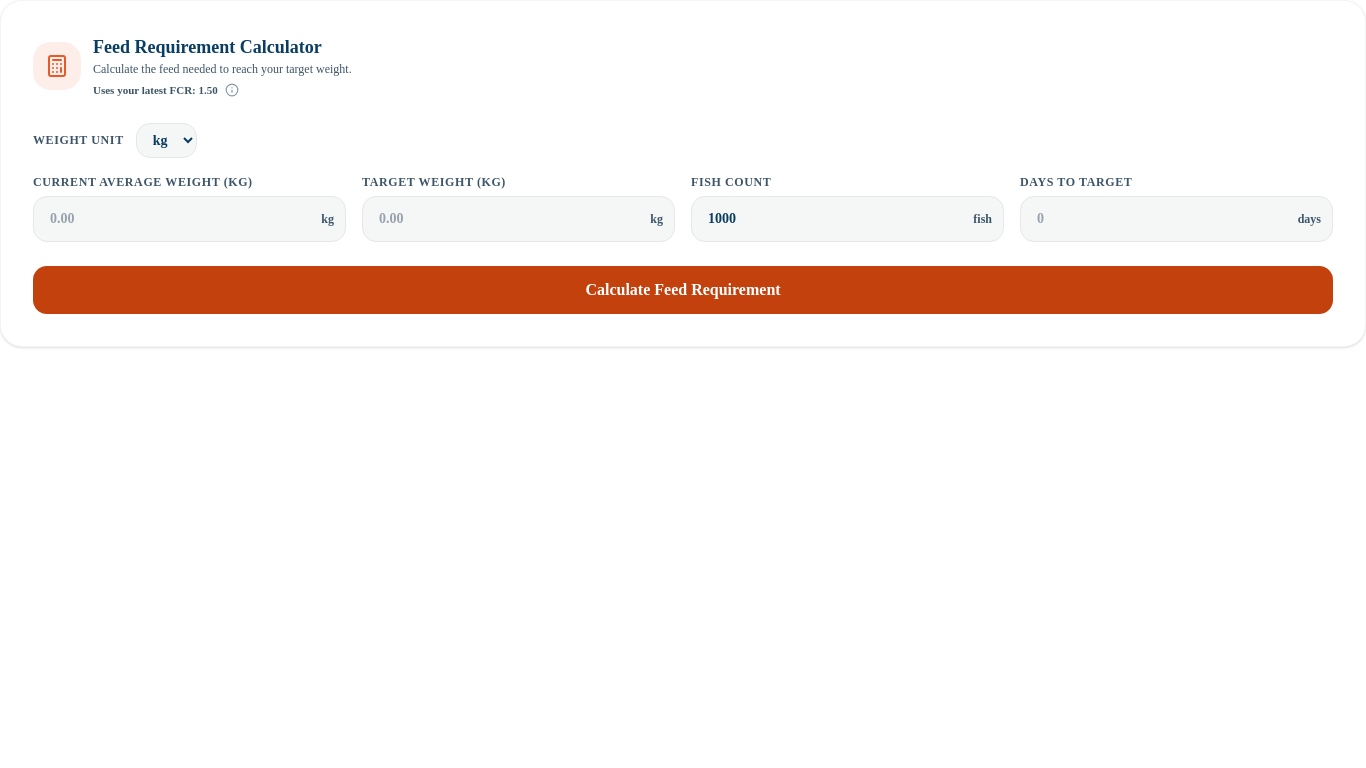
it: weight unit (#683) › renders results in the selected unit and keeps gramsPerFeeding in grams
Select "g" in the dropdown labelled "Weight unit" at (166, 140), box [136,123,197,158]
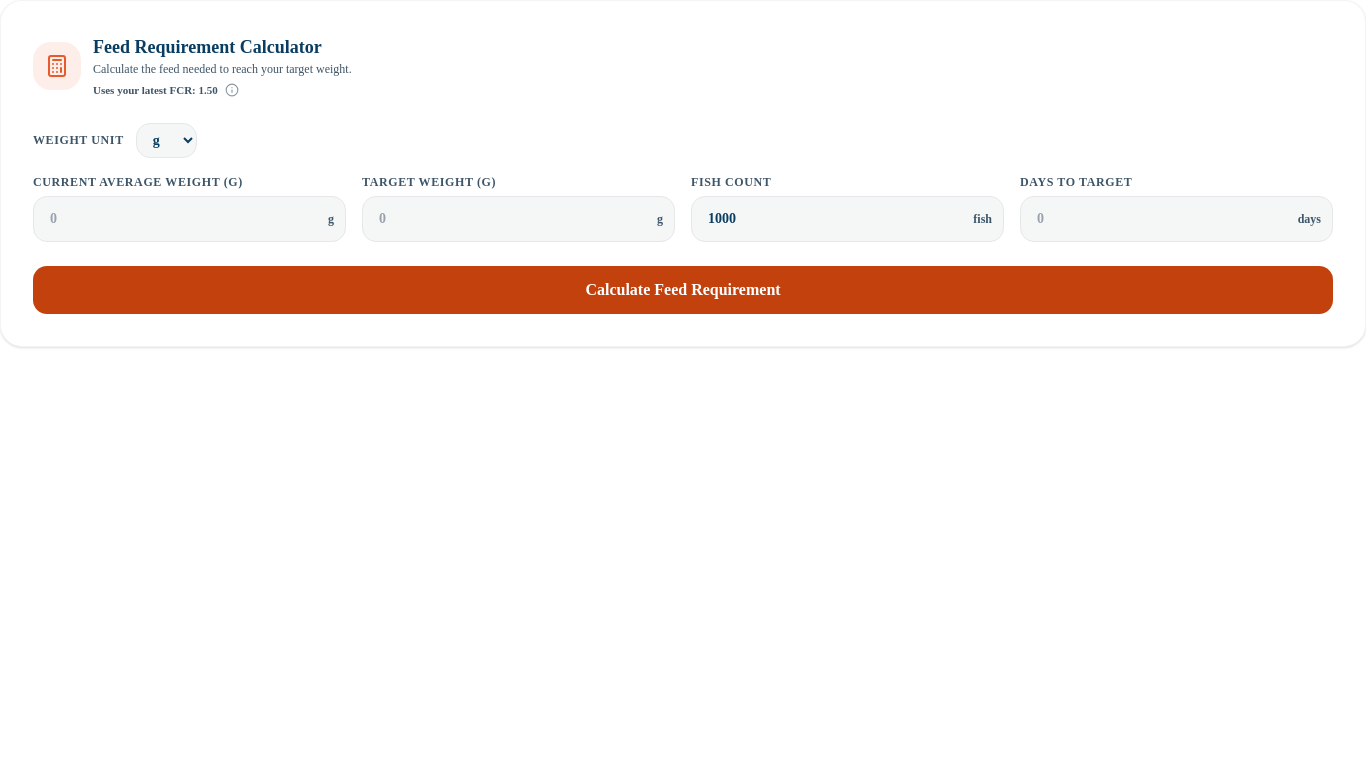
Type "150" into the number field labelled "Current average weight (g)" at (190, 219), box [33,196,346,242]
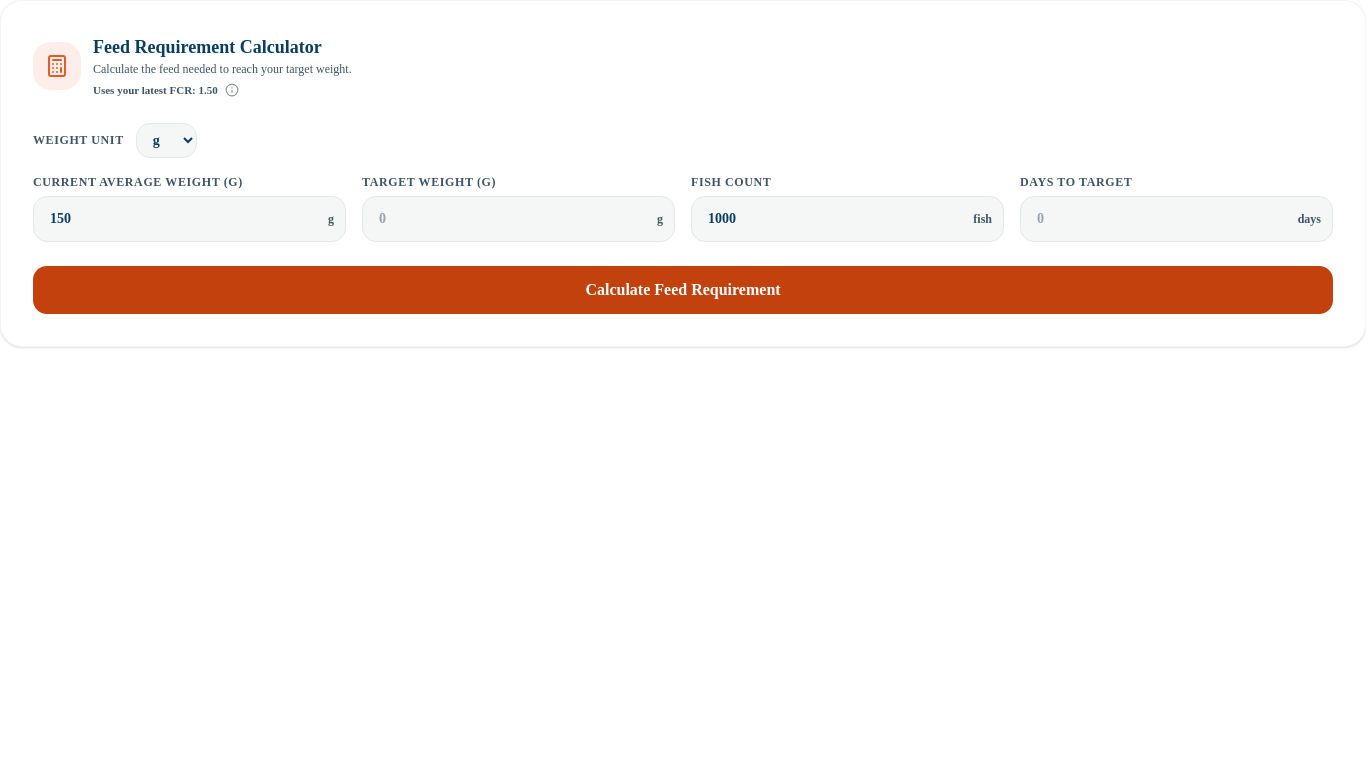
Type "400" into the number field labelled "Target Weight (g)" at (518, 219), box [362,196,675,242]
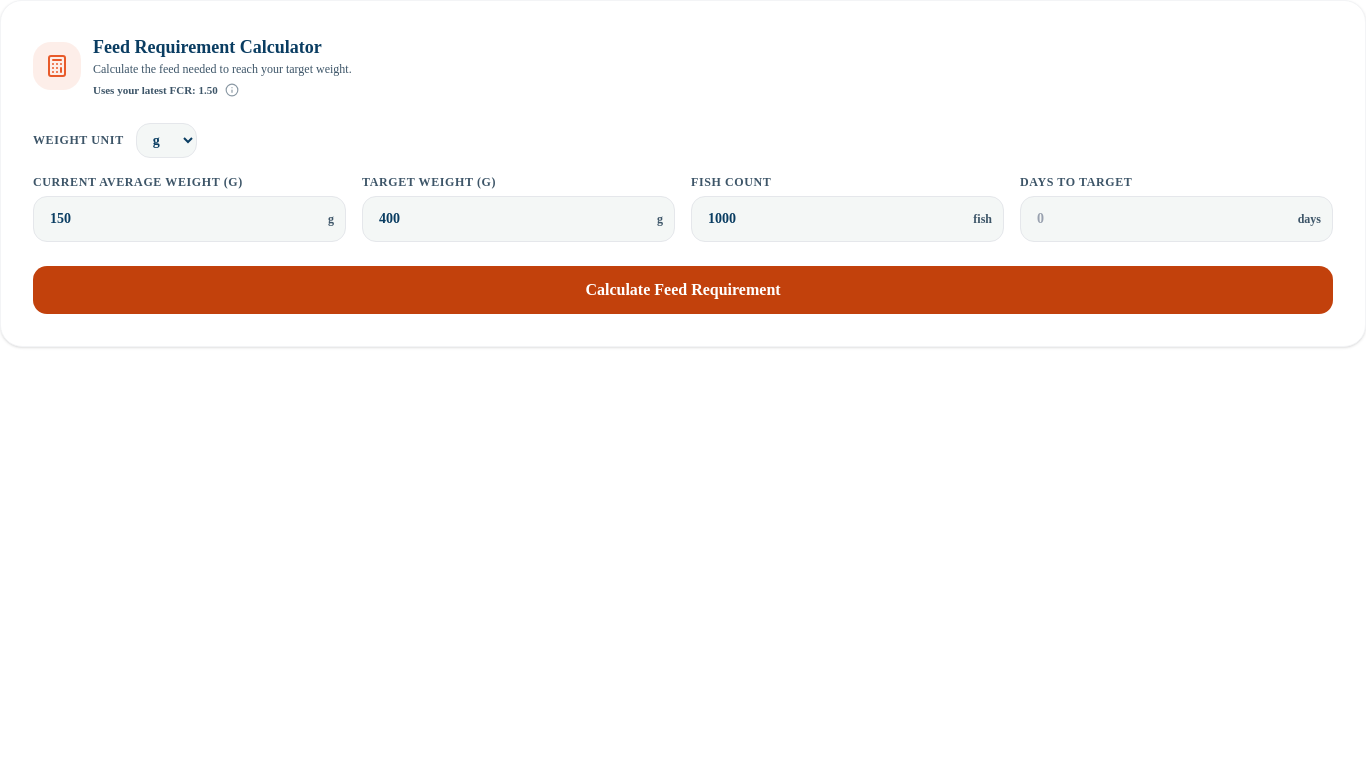
Type "60" into the number field labelled "Days to Target" at (1176, 219), box [1020,196,1333,242]
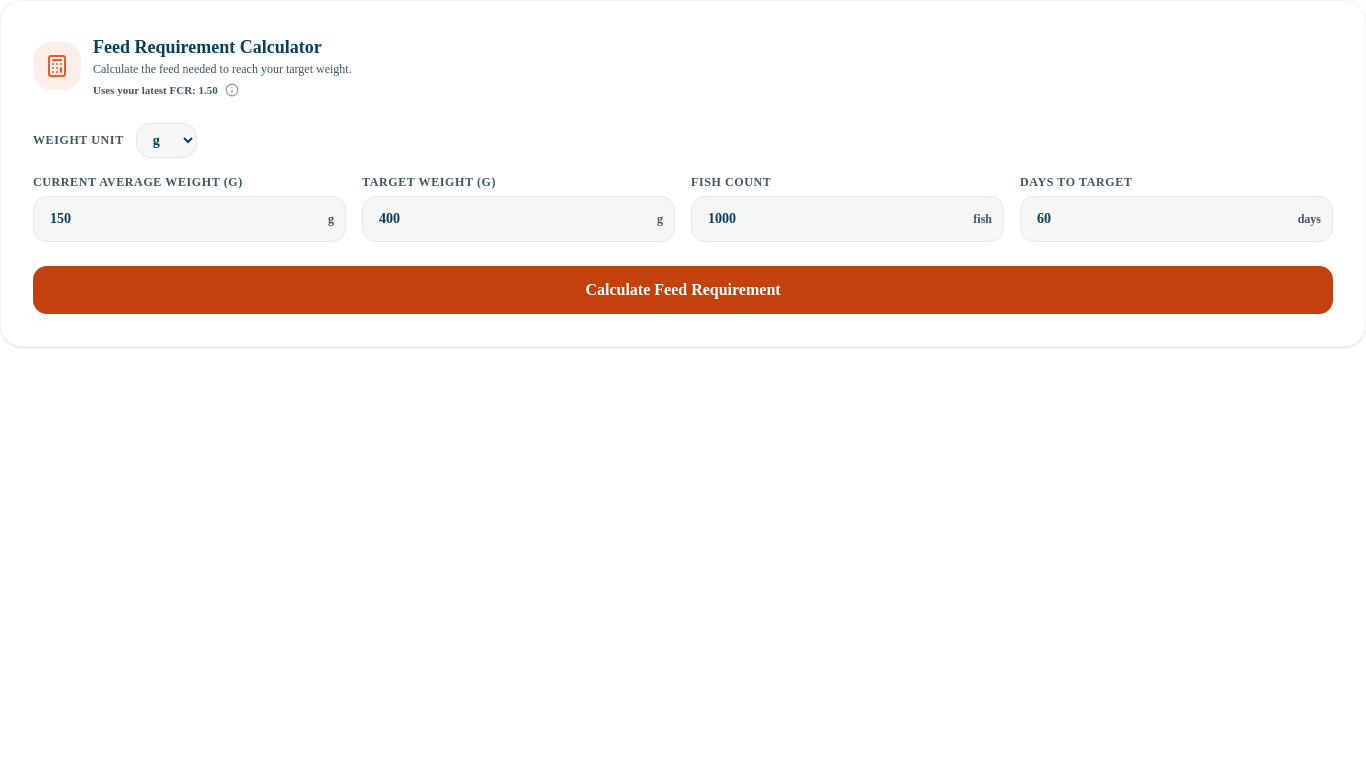
Click the button "Calculate Feed Requirement" at (683, 290), box [33,266,1333,314]
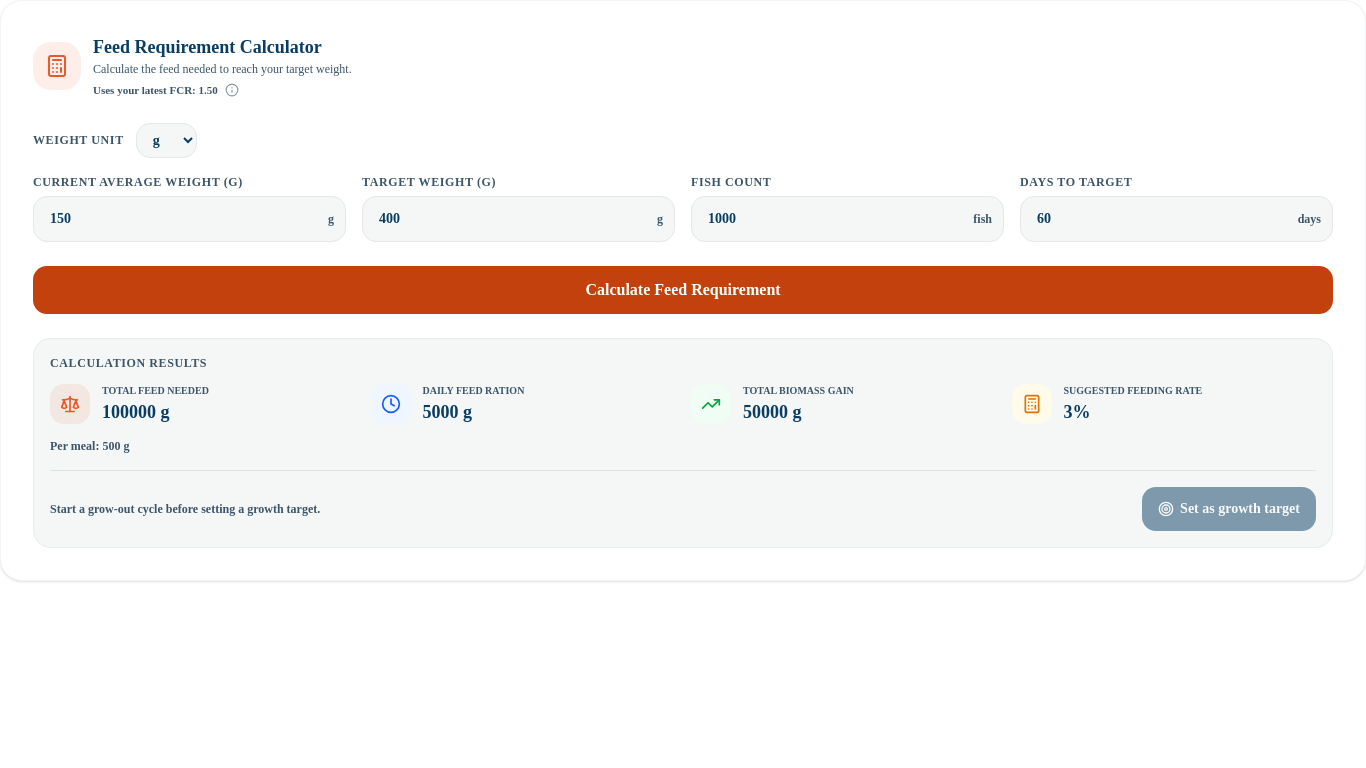
expect the text "100000 g" is shown: met, box [102,402,170,422]
expect the text "5000 g" is shown: met, box [422,402,472,422]
expect the text "50000 g" is shown: met, box [743,402,802,422]
Select "kg" in the dropdown labelled "Weight unit" at (166, 140), box [136,123,197,158]
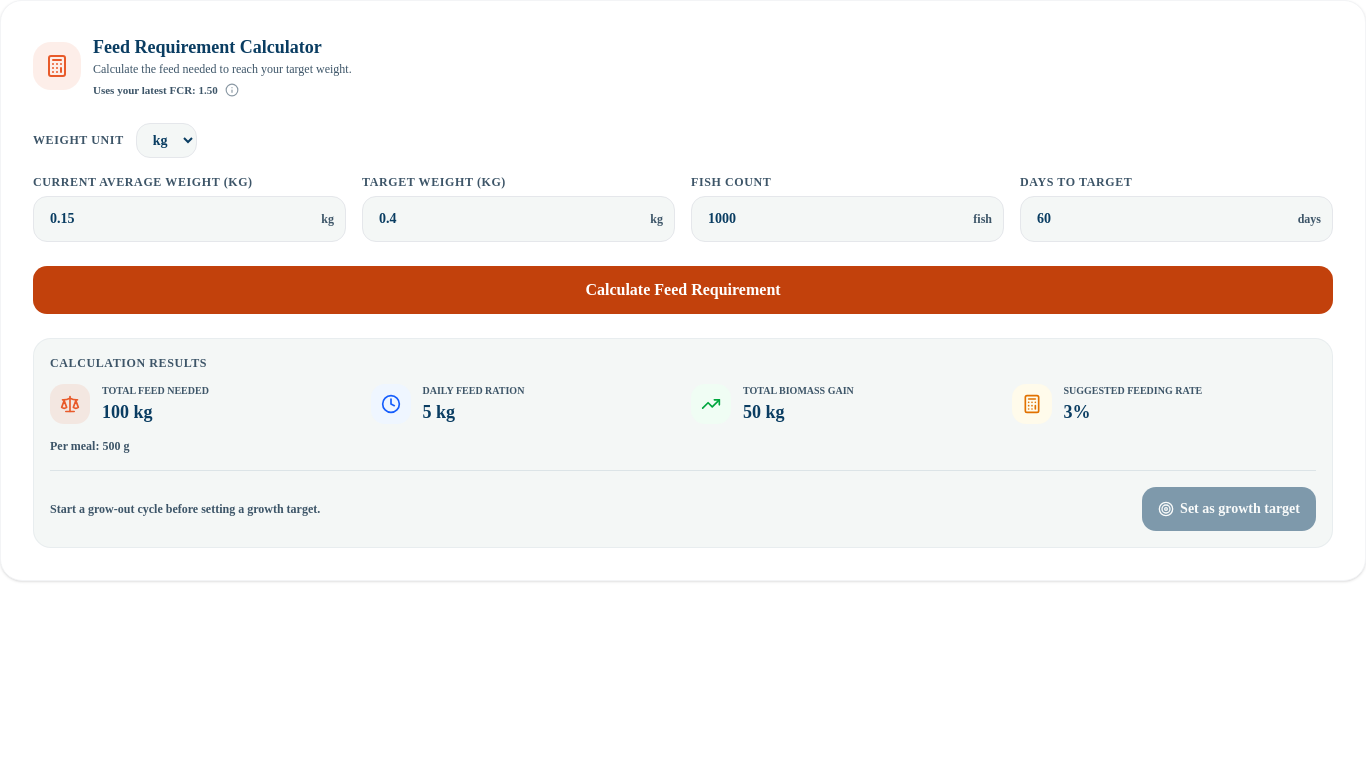
expect the text "100 kg" is shown: met, box [102,402,152,422]
expect the text "5 kg" is shown: met, box [422,402,455,422]
expect the text "50 kg" is shown: met, box [743,402,784,422]
